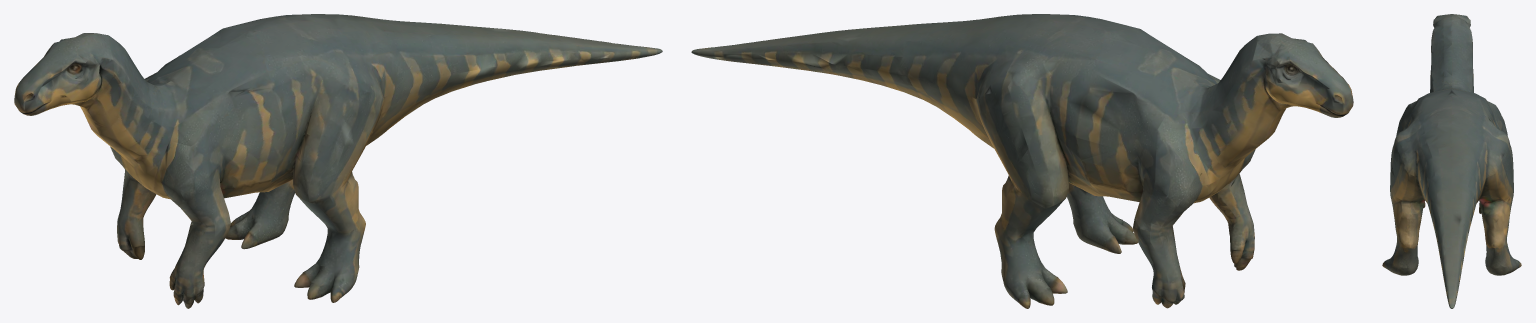
The model's file is iguanodon-hy3d-v35-stylized.glb.
The picture shows the model from 3 angles, left to right: view 1: azimuth 30°, elevation 25°; view 2: azimuth 150°, elevation 25°; view 3: azimuth 270°, elevation 25°; orthographic projection. The views are drawn at different scales.
Size of the model in its own units: 1.16 by 0.4778 by 0.3224.
Materials: 1 (1 with a texture image).
